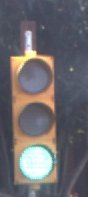Green: (5, 51, 58, 186)
